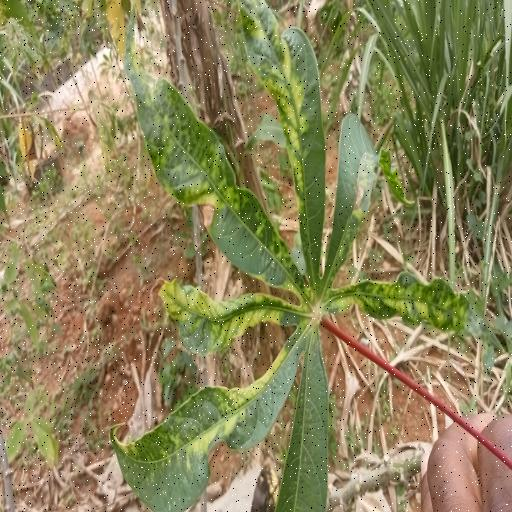Cassava_Root_Rot: (110, 4, 484, 506)
